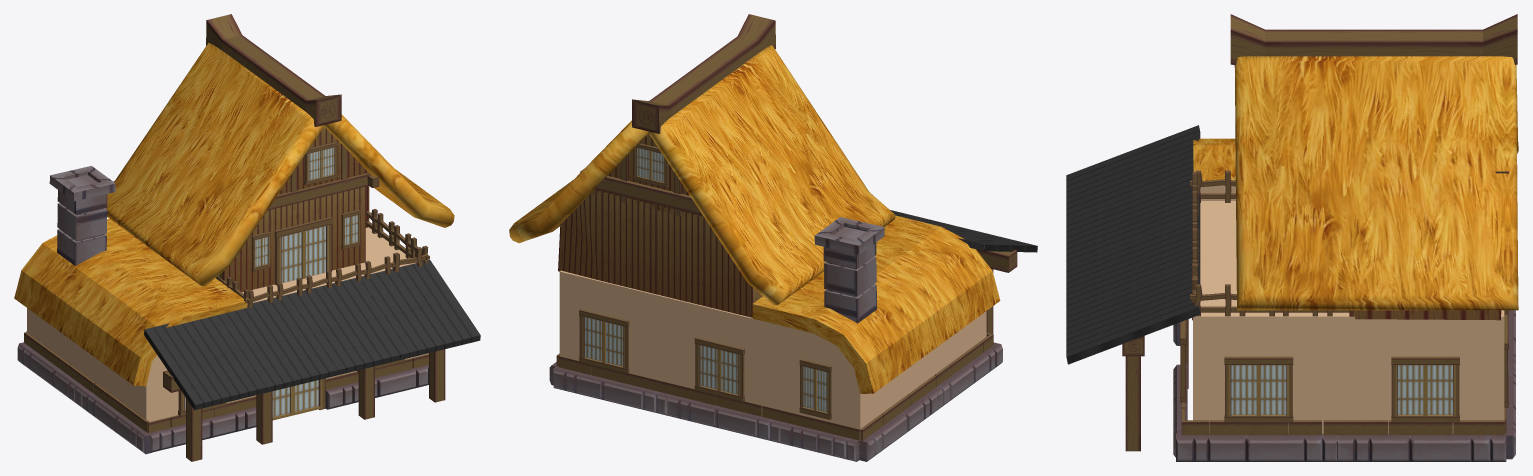
File: House03.fbx
3 renders of one model, left to right at view 1: azimuth 30°, elevation 25°; view 2: azimuth 150°, elevation 25°; view 3: azimuth 270°, elevation 25°, orthographic. The views are drawn at different scales.
Visible parts, largest first — view 1: Plane.079; view 2: Plane.079; view 3: Plane.079.
Part boxes in pixels (left/top/right/bottom): Plane.079: left=14, top=14, right=480, bottom=461; Plane.079: left=509, top=14, right=1037, bottom=461; Plane.079: left=1066, top=14, right=1518, bottom=461.
Bounding box in the file's own units: 847 × 697 × 749.
Materials: 2 (1 with a texture image).
